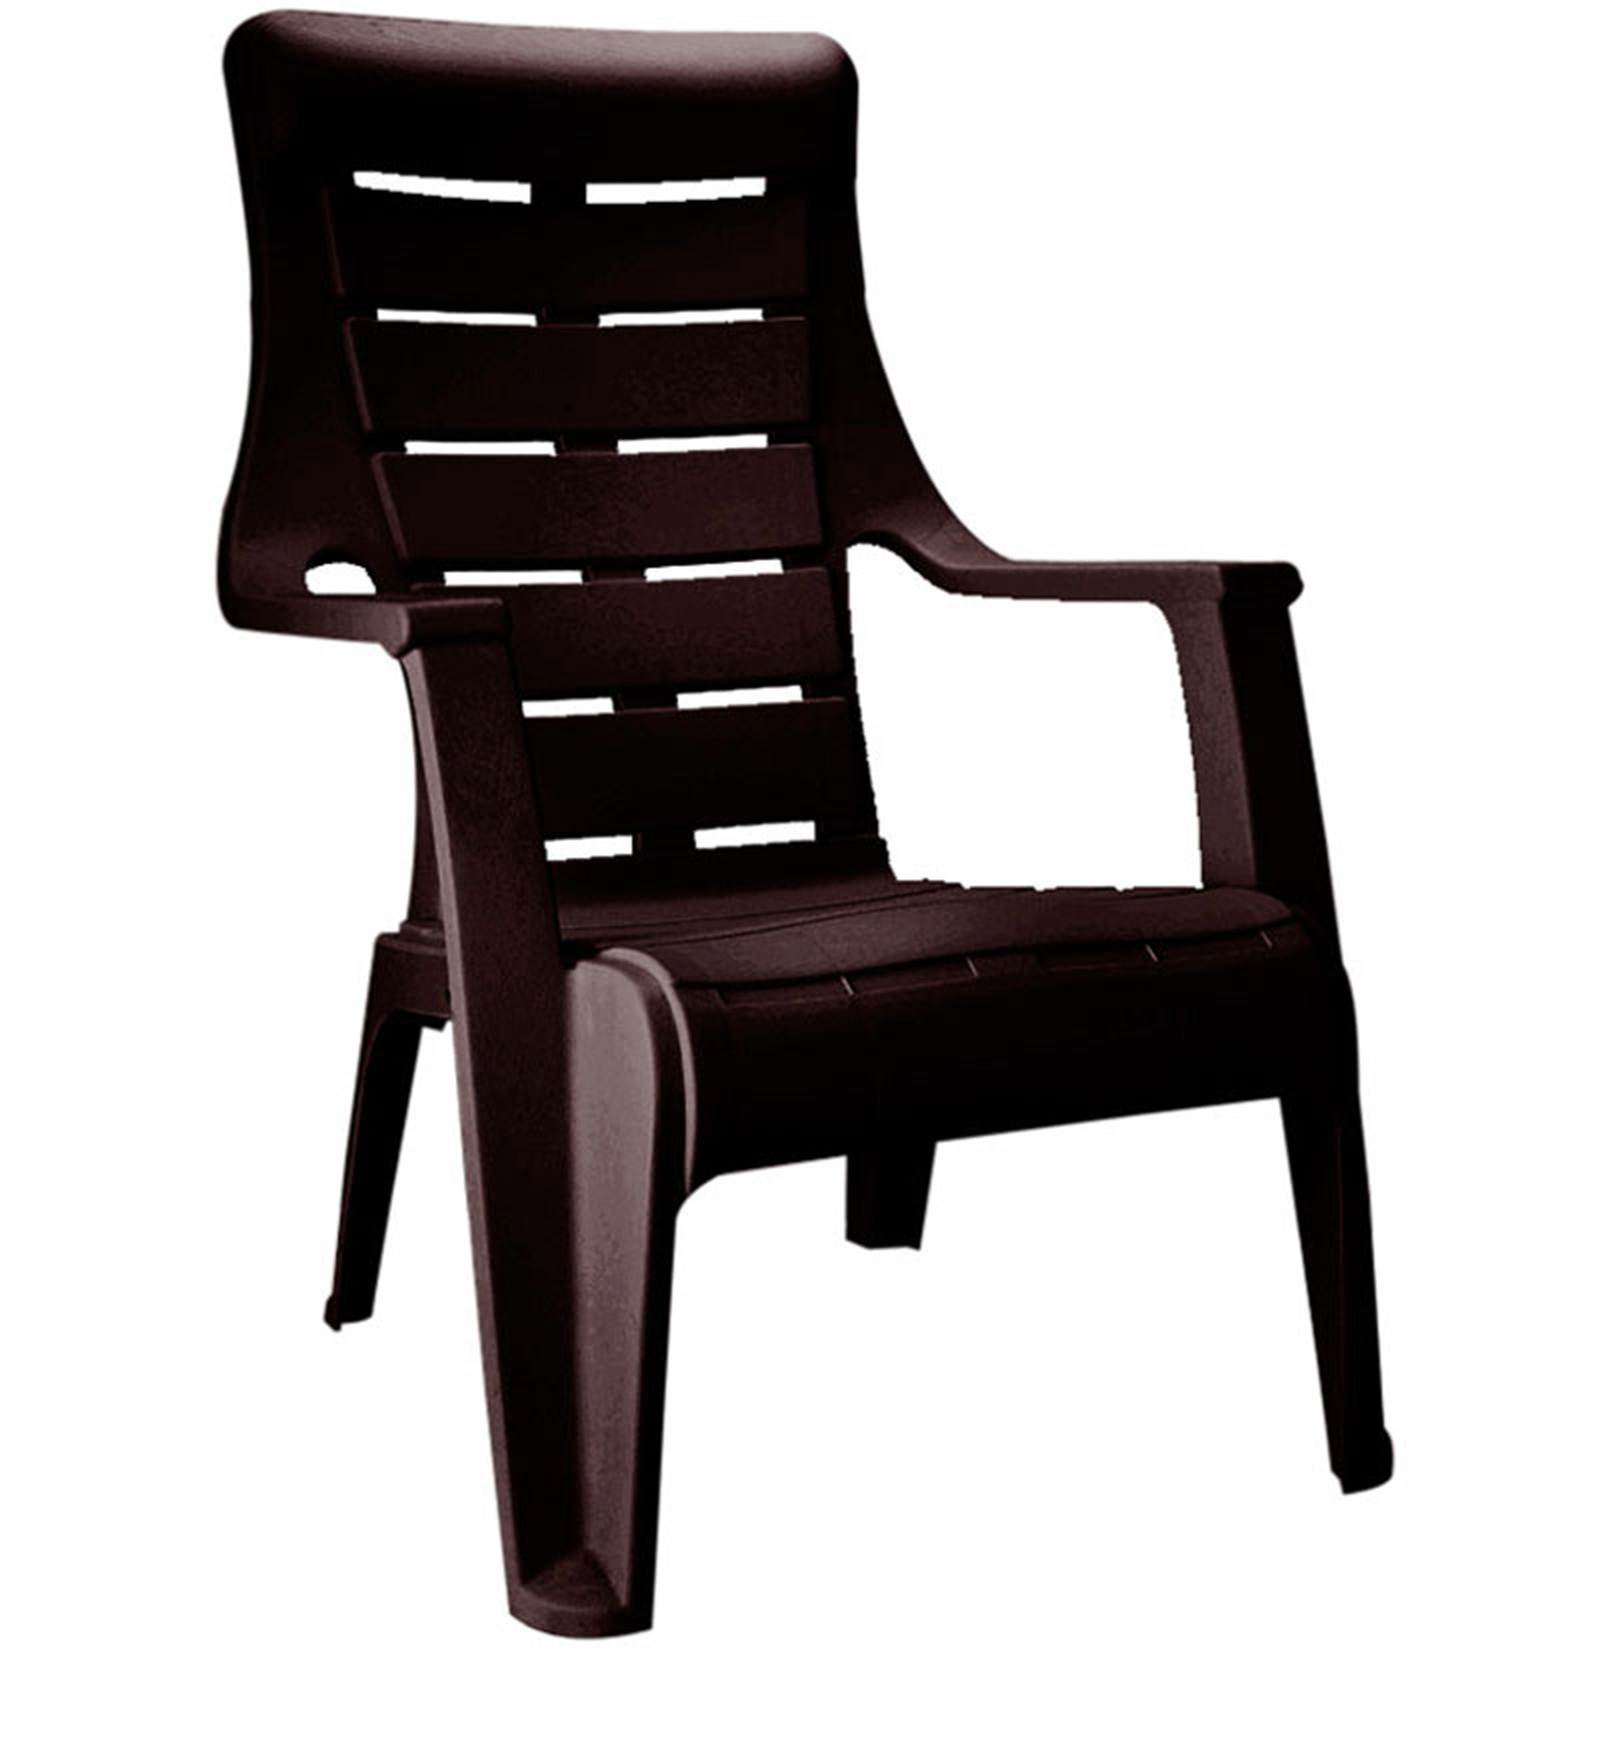Sunday Chair in Brown Colour by Nilkamal: (170, 25, 1467, 1665)
